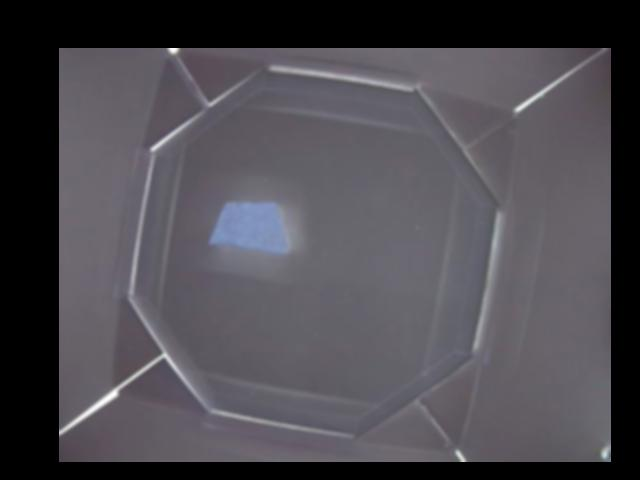China: (208, 202, 290, 259)
